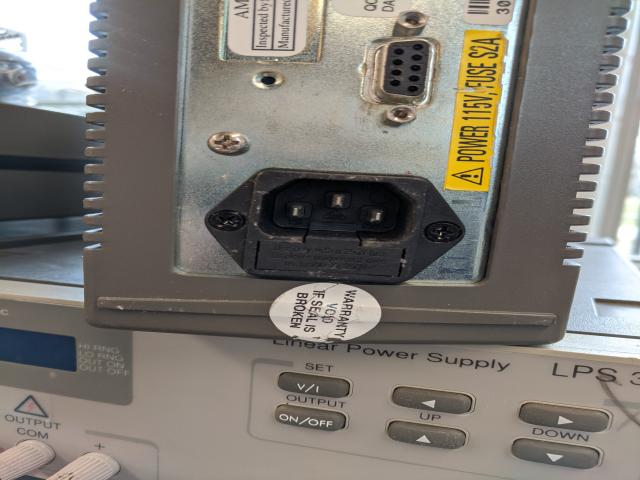CRS: (207, 130, 250, 158), (208, 211, 246, 232), (426, 221, 462, 241)
